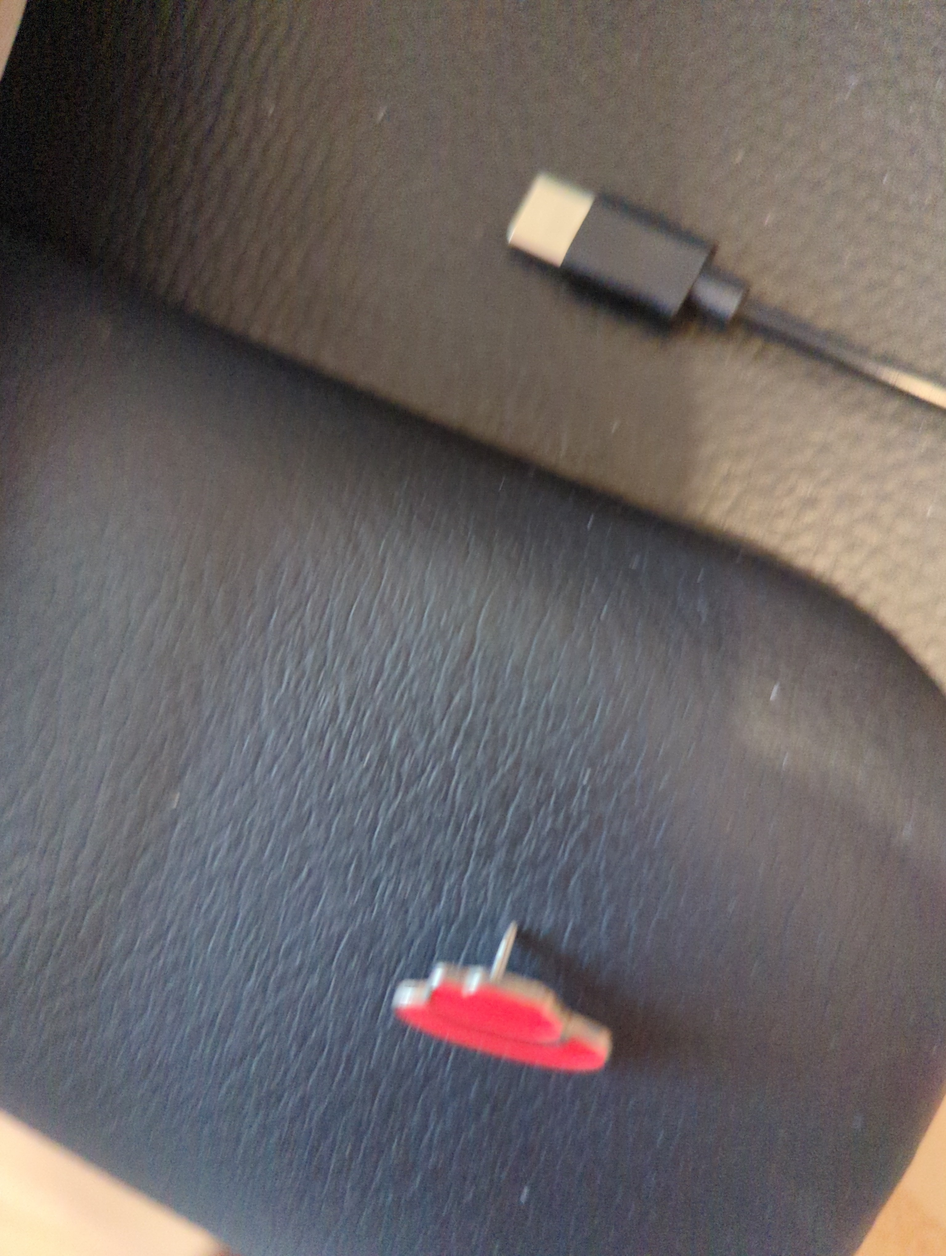Red-Hat: (332, 845, 734, 1140)
